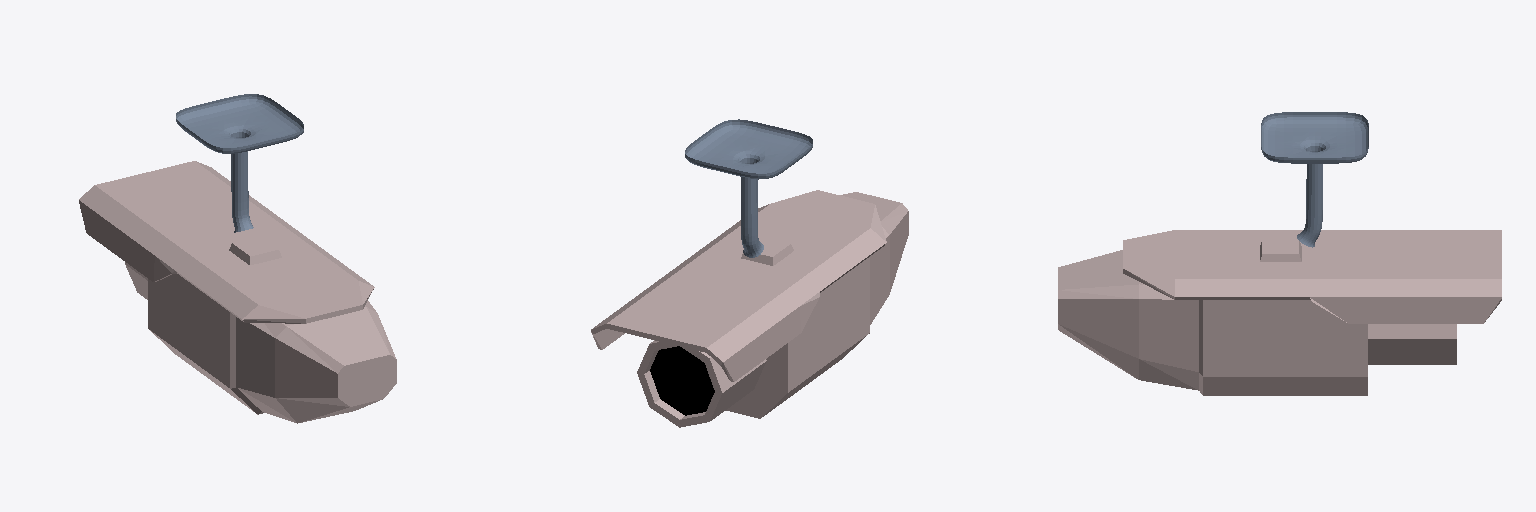
The model's file is camera.obj.
3 views of the same model, side by side, from view 1: azimuth 30°, elevation 25°; view 2: azimuth 150°, elevation 25°; view 3: azimuth 270°, elevation 25° (orthographic).
Parts seen in each view (by area): view 1: camera, camera_stand; view 2: camera, camera_stand; view 3: camera, camera_stand.
Boxes of the visible parts, box(x1,y1,x2,y2) form: camera: box(79, 161, 396, 423); camera_stand: box(176, 94, 303, 232); camera: box(591, 190, 908, 427); camera_stand: box(685, 119, 812, 257); camera: box(1058, 230, 1501, 395); camera_stand: box(1261, 112, 1368, 247).
Bounding box in the file's own units: 1.36 × 2.33 × 3.86.